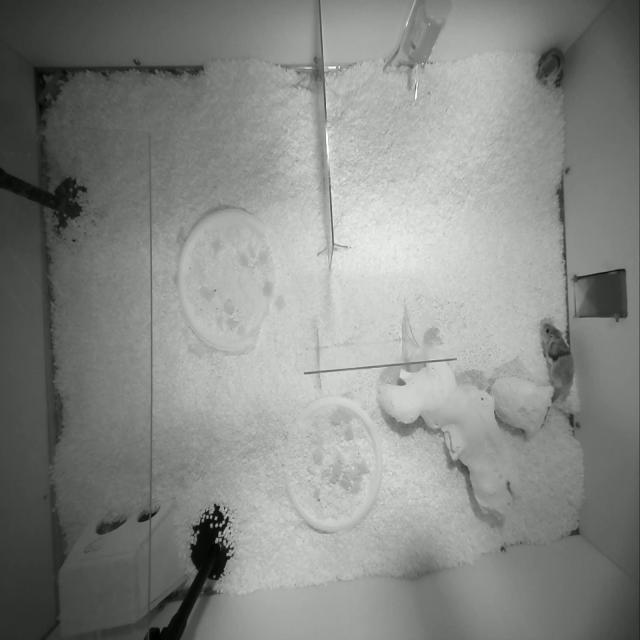adult_front: (541, 323, 574, 403)
pup_h_stripe: (536, 48, 564, 86)
